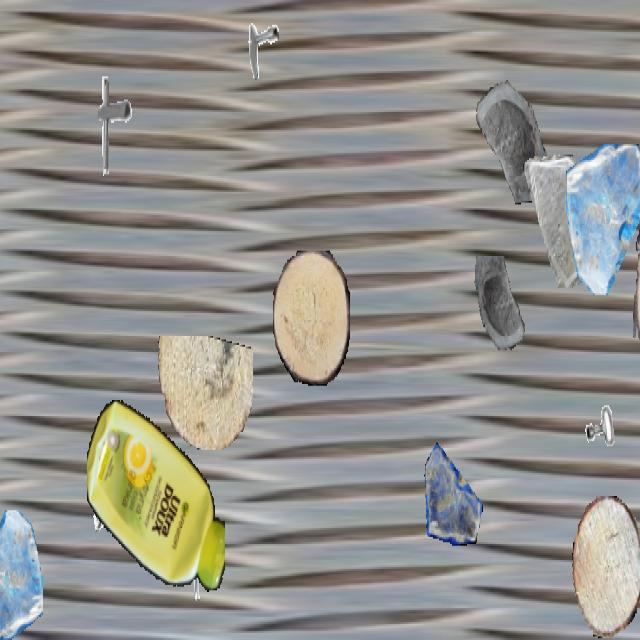glass: (466, 57, 548, 203), (566, 144, 640, 293), (522, 155, 596, 286), (471, 256, 533, 366), (424, 441, 482, 544), (0, 510, 42, 638)
metal: (80, 71, 140, 178), (571, 347, 631, 453), (87, 453, 133, 535), (179, 535, 223, 613), (237, 4, 279, 78), (634, 91, 640, 190), (638, 453, 640, 535)
plastic: (87, 393, 225, 599)
wood: (155, 336, 253, 450), (273, 250, 349, 386), (572, 496, 640, 638), (633, 166, 640, 436)
